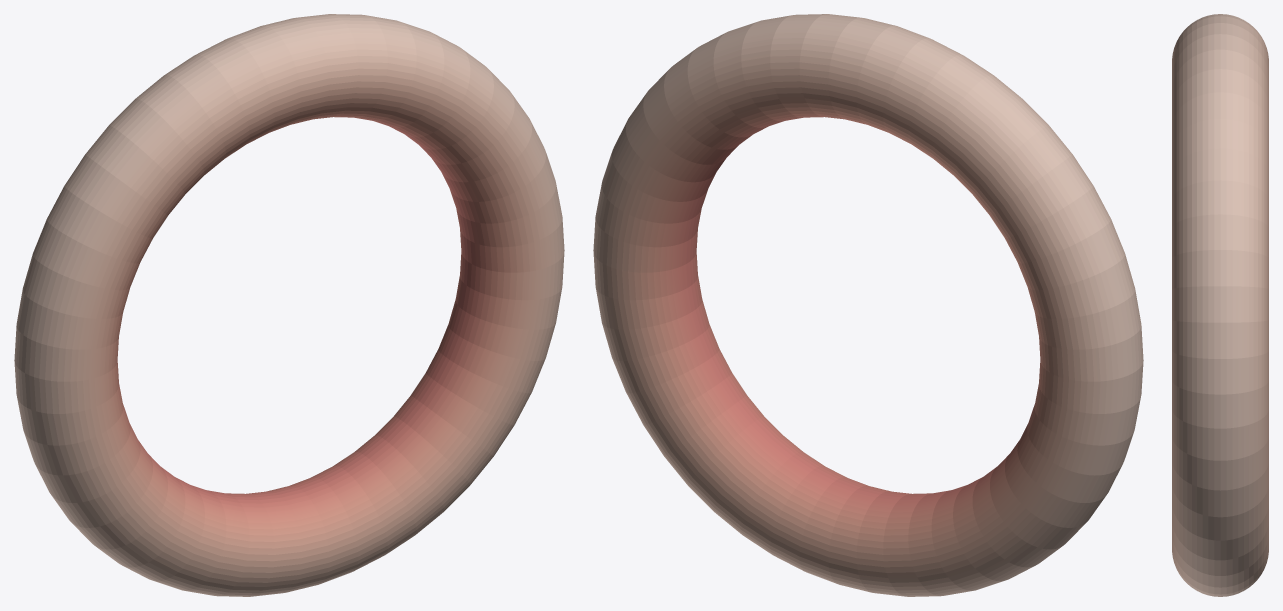
3 renders of one model, left to right at view 1: azimuth 30°, elevation 25°; view 2: azimuth 150°, elevation 25°; view 3: azimuth 270°, elevation 25°, orthographic. The views are drawn at different scales.
Parts seen in each view (by area): view 1: world; view 2: world; view 3: world.
Boxes of the visible parts, bbox=[...] form: world: bbox=[14, 14, 564, 596]; world: bbox=[593, 14, 1143, 596]; world: bbox=[1172, 14, 1268, 596].
Bounding box in the file's own units: 32.8 × 32.74 × 5.46.
